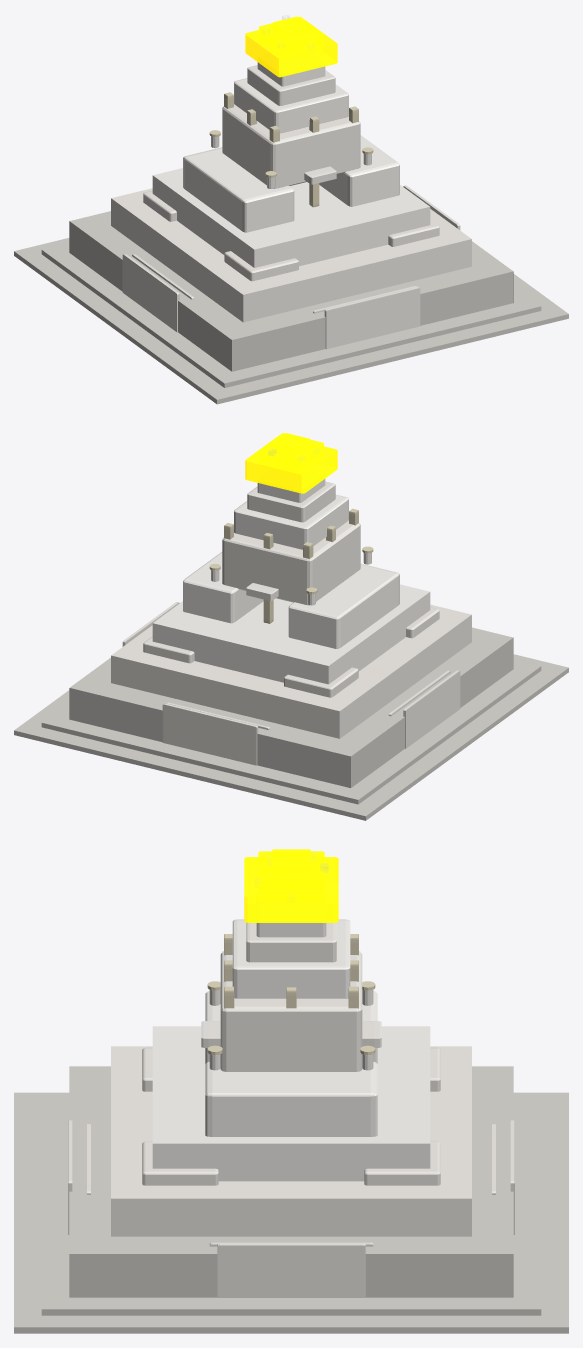
The model's file is citadel.glb.
3 views of the same model, one above another, from view 1: azimuth 30°, elevation 25°; view 2: azimuth 150°, elevation 25°; view 3: azimuth 270°, elevation 25° (orthographic). The views are drawn at different scales.
Visible parts, largest first — view 1: Cube.489, Cube.488, Cube.490, Cube.455, Cube.456, Cube.502, Cube.499, Cube.475, Cube.503, Cube.514, Cube.500, Cube.481 (+8 smaller); view 2: Cube.489, Cube.488, Cube.490, Cube.455, Cube.456, Cube.502, Cube.499, Cube.469, Cube.503, Cube.514, Cube.500, Cube.481 (+8 smaller); view 3: Cube.488, Cube.489, Cube.455, Cube.490, Cube.456, Cube.500, Cube.502, Cube.487, Cube.503, Cube.514, Cube.515, Cube.504 (+9 smaller).
Part boxes in pixels (<box>): Cube.489: <box>111,188,471,322</box>; Cube.488: <box>69,211,513,371</box>; Cube.490: <box>152,168,430,267</box>; Cube.455: <box>14,238,568,404</box>; Cube.456: <box>41,243,541,387</box>; Cube.502: <box>222,104,360,188</box>; Cube.499: <box>183,147,294,232</box>; Cube.475: <box>324,287,420,349</box>; Cube.503: <box>234,78,348,133</box>; Cube.514: <box>245,20,337,77</box>; Cube.500: <box>319,135,399,206</box>; Cube.481: <box>122,254,179,332</box>; Cube.489: <box>111,604,471,738</box>; Cube.488: <box>69,627,513,787</box>; Cube.490: <box>152,584,430,684</box>; Cube.455: <box>14,654,568,820</box>; Cube.456: <box>41,659,541,804</box>; Cube.502: <box>222,520,360,605</box>; Cube.499: <box>288,563,399,648</box>; Cube.469: <box>162,703,258,765</box>; Cube.503: <box>234,494,348,549</box>; Cube.514: <box>245,436,337,493</box>; Cube.500: <box>183,552,263,623</box>; Cube.481: <box>403,670,460,748</box>; Cube.488: <box>69,1066,513,1297</box>; Cube.489: <box>111,1046,471,1236</box>; Cube.455: <box>14,1092,568,1333</box>; Cube.490: <box>152,1026,430,1181</box>; Cube.456: <box>41,1098,541,1315</box>; Cube.500: <box>205,1061,377,1136</box>; Cube.502: <box>220,951,362,1071</box>; Cube.487: <box>217,1243,365,1297</box>; Cube.503: <box>232,919,350,998</box>; Cube.514: <box>244,857,338,922</box>; Cube.515: <box>258,851,324,900</box>; Cube.504: <box>246,922,336,962</box>.
Size of the model in its own units: 40 by 28.55 by 40.
